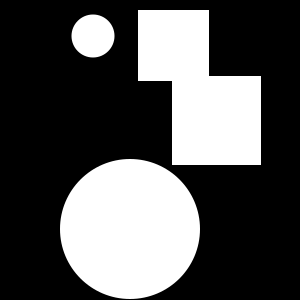circle: (172, 76, 261, 165), (138, 10, 209, 81)
rectangle: (60, 159, 200, 299), (72, 14, 114, 57), (132, 282, 146, 294)
